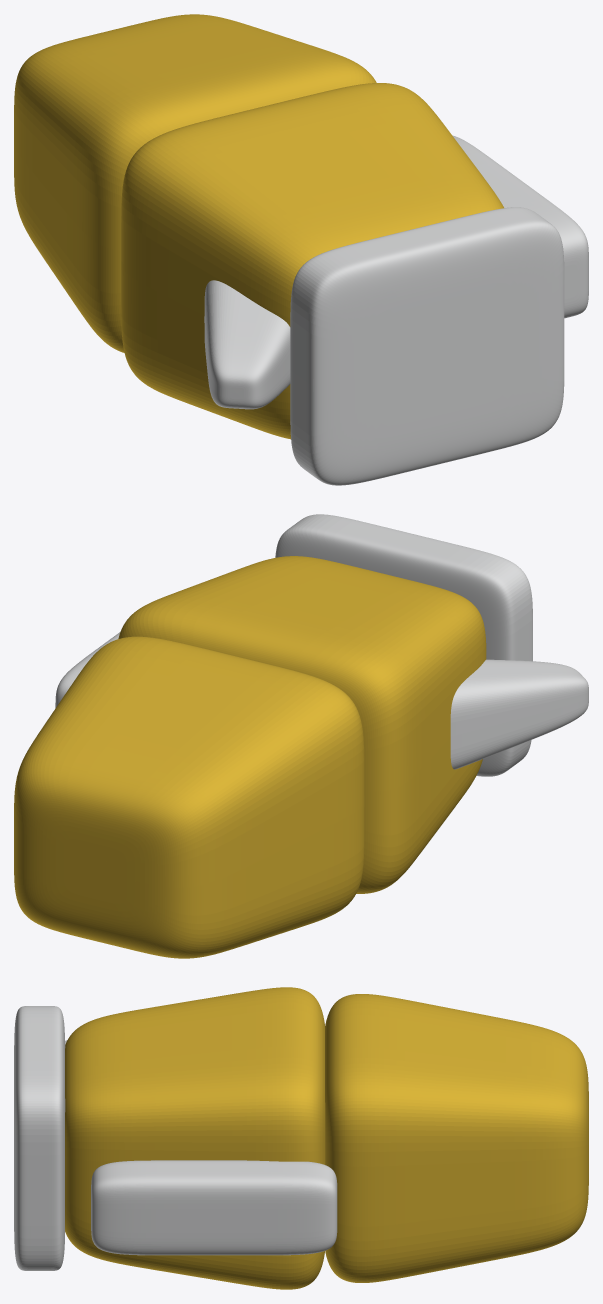
The model's file is classic_moka_pot_sq.glb.
3 views of the same model, one above another, from view 1: azimuth 30°, elevation 25°; view 2: azimuth 150°, elevation 25°; view 3: azimuth 270°, elevation 25° (orthographic). The views are drawn at different scales.
Parts seen in each view (by area): view 1: superquadric_1, superquadric_2, superquadric_0, superquadric_3, superquadric_4; view 2: superquadric_0, superquadric_1, superquadric_2, superquadric_3, superquadric_4; view 3: superquadric_0, superquadric_1, superquadric_4, superquadric_2.
Part boxes in pixels (x1,y1,x2,y2): superquadric_1: [121, 83, 503, 439]; superquadric_2: [290, 207, 564, 485]; superquadric_0: [14, 14, 376, 352]; superquadric_3: [204, 280, 290, 409]; superquadric_4: [452, 135, 588, 318]; superquadric_0: [14, 636, 364, 958]; superquadric_1: [118, 556, 486, 893]; superquadric_2: [275, 514, 532, 776]; superquadric_3: [450, 659, 588, 769]; superquadric_4: [55, 632, 120, 708]; superquadric_0: [325, 994, 588, 1282]; superquadric_1: [65, 987, 325, 1289]; superquadric_4: [91, 1160, 337, 1255]; superquadric_2: [14, 1006, 65, 1270].
Bounding box in the file's own units: 0.6809 × 0.4109 × 1.
